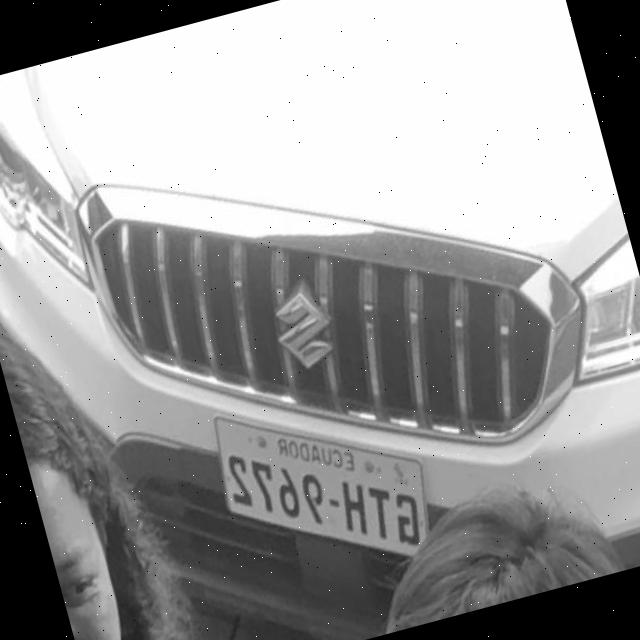Placa: (215, 418, 427, 553)
